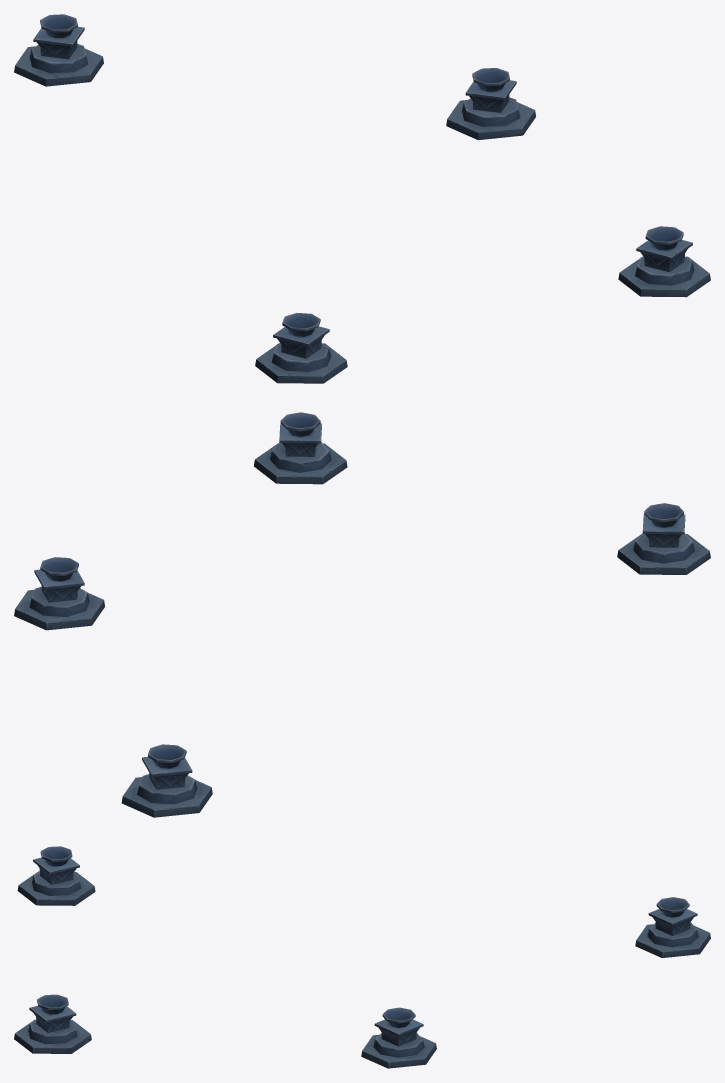
Rendered from wujian37.fbx.
3 renders of one model, top to bottom at view 1: azimuth 30°, elevation 25°; view 2: azimuth 150°, elevation 25°; view 3: azimuth 270°, elevation 25°, orthographic. The views are drawn at different scales.
Parts seen in each view (by area): view 1: wujian37; view 2: wujian37; view 3: wujian37.
Part boxes in pixels (x1,y1,x2,y2): wujian37: (14, 14, 710, 383); wujian37: (14, 412, 710, 817); wujian37: (14, 846, 710, 1068).
Bounding box in the file's own units: 1258 × 117 × 1933.
Materials: 1 (1 with a texture image).
